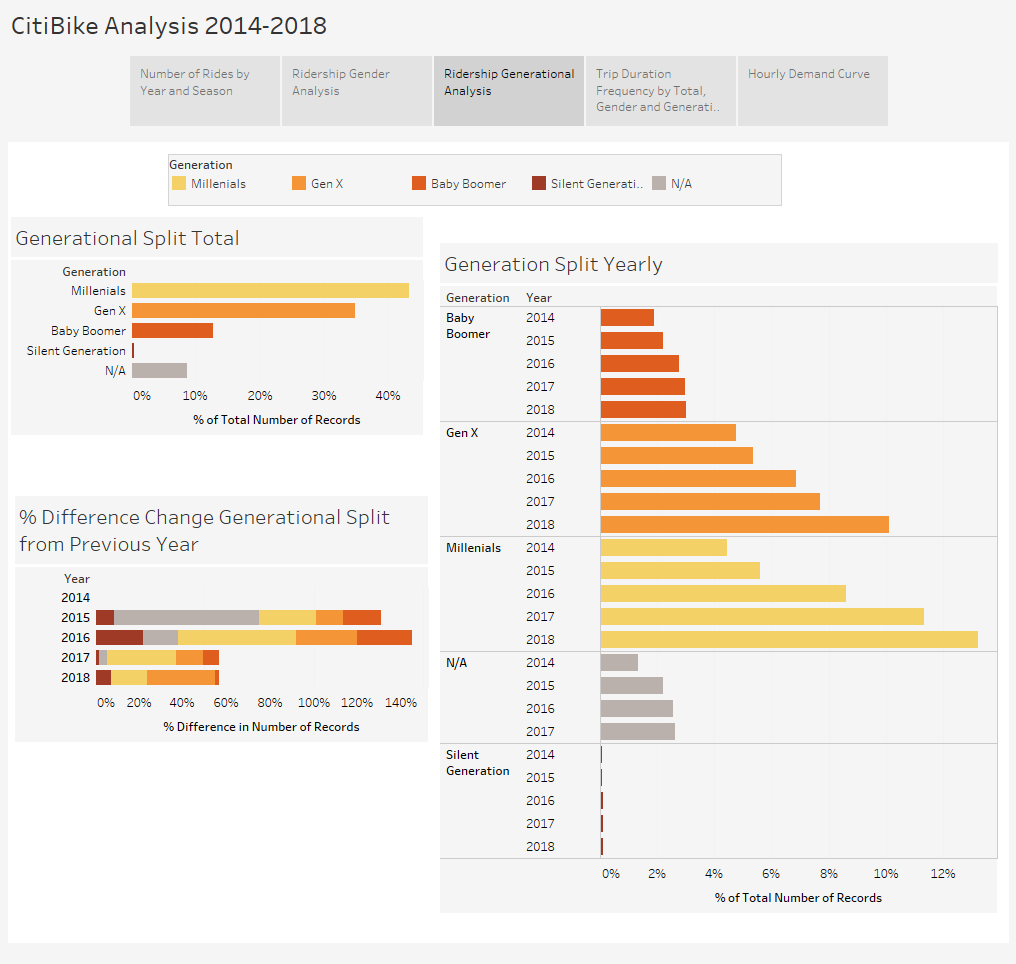

Layout of this report page (visuals, bound fields, positions):
{"tool":"tableau","page":{"name":"Dashboard 4","canvas":[1000,800],"ordinal":2},"visuals":[{"type":"legend","title":"Generational Split Total","param":"[federated.0h4x5iq1kgljpg14seqdx17qmbxy].[none:Generation:nk]","box":[160,12,614,52]},{"type":"worksheet","title":"Generational Split Total","mark":"Automatic","rows":["Generation"],"cols":["Number of Records"],"box":[3,75,412,266]},{"type":"worksheet","title":"Generation Split Yearly","mark":"Automatic","rows":["Generation","Year"],"cols":["Number of Records"],"box":[432,101,558,685]},{"type":"worksheet","title":"PerDiffGenerationalSplt","mark":"Automatic","rows":["Year"],"box":[7,354,413,262]}]}

Visuals, with their boxes on the page's 1000x800 design canvas (x1, y1, x2, y2). These are canvas units, not pixel positions in the 1016x964 screenshot, which may show the page scaled, cropped or inside an application window:
"Generational Split Total" legend: crop(160, 12, 774, 64)
"Generational Split Total" worksheet: crop(3, 75, 415, 341)
"Generation Split Yearly" worksheet: crop(432, 101, 990, 786)
"PerDiffGenerationalSplt" worksheet: crop(7, 354, 420, 616)
